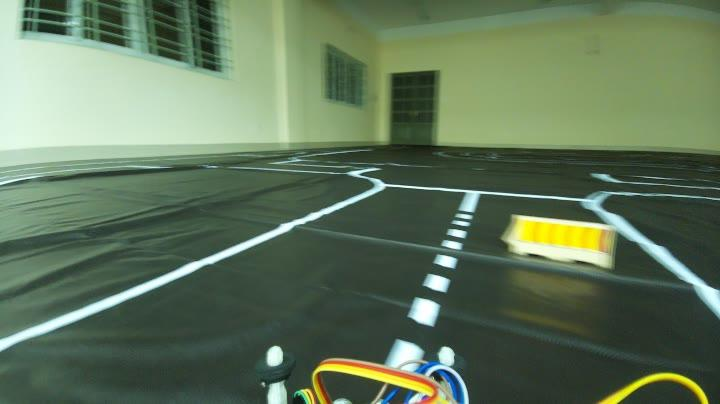roadblock: (500, 208, 628, 282)
